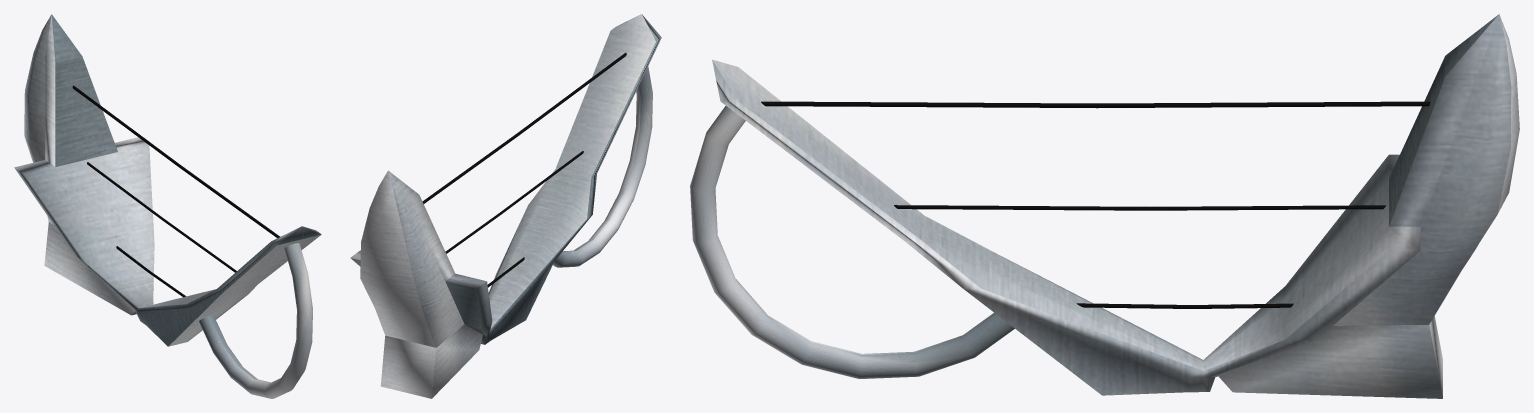
The model's file is CableBuilding.fbx.
3 renders of one model, left to right at view 1: azimuth 30°, elevation 25°; view 2: azimuth 150°, elevation 25°; view 3: azimuth 270°, elevation 25°, orthographic. The views are drawn at different scales.
Visible parts, largest first — view 1: MainBuilding, Ring, Cable, Cable1; view 2: MainBuilding, Ring, Cable, Cable1; view 3: MainBuilding, Ring, Cable, Cable1, Cable2.
Boxes of the visible parts, box(x1,y1,x2,y2) form: MainBuilding: box(14, 14, 321, 346); Ring: box(199, 243, 312, 398); Cable: box(72, 85, 279, 237); Cable1: box(87, 162, 236, 272); MainBuilding: box(350, 14, 661, 398); Ring: box(553, 66, 652, 267); Cable: box(422, 52, 626, 203); Cable1: box(445, 151, 583, 253); MainBuilding: box(712, 14, 1519, 398); Ring: box(690, 106, 1014, 378); Cable: box(761, 101, 1430, 108); Cable1: box(894, 205, 1385, 210); Cable2: box(1076, 303, 1293, 308).
Bounding box in the file's own units: 8.64 × 15.76 × 31.56.
2 materials, 1 textured.
